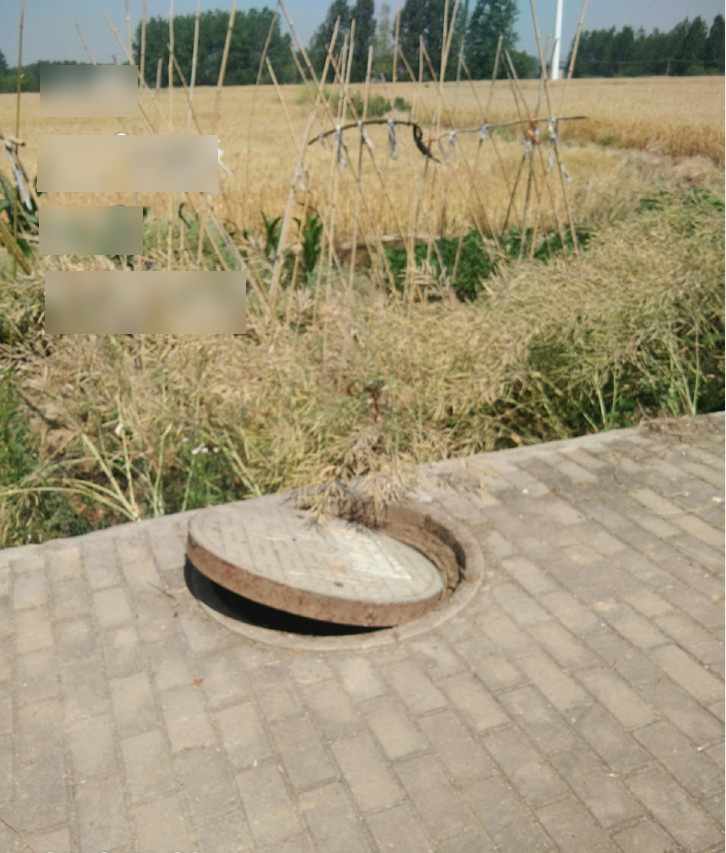uncovered: (185, 491, 483, 648)
